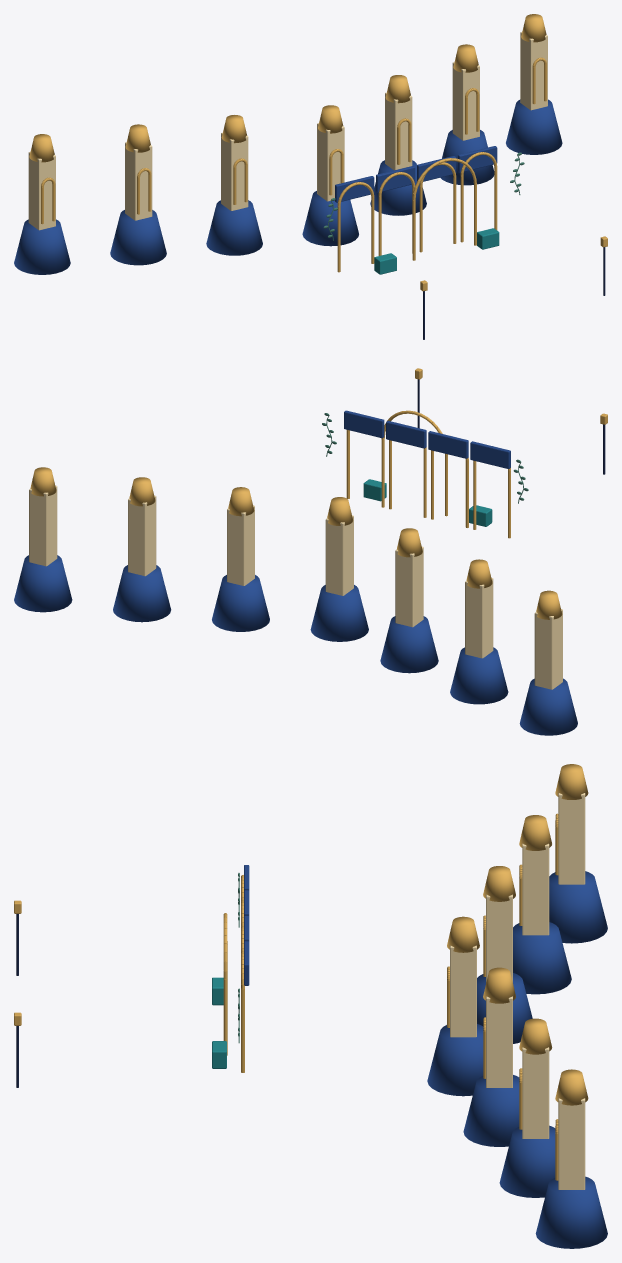
The model's file is post.glb.
3 renders of one model, top to bottom at view 1: azimuth 30°, elevation 25°; view 2: azimuth 150°, elevation 25°; view 3: azimuth 270°, elevation 25°, orthographic. The views are drawn at different scales.
Visible parts, largest first — view 1: Architecture_blue, Architecture_cream, Architecture_gold, Architecture_teal; view 2: Architecture_blue, Architecture_cream, Architecture_gold, Architecture_teal; view 3: Architecture_blue, Architecture_cream, Architecture_gold, Architecture_teal.
Boxes of the visible parts, box(x1,y1,x2,y2) form: Architecture_blue: box(14, 99, 562, 274); Architecture_cream: box(28, 32, 547, 230); Architecture_gold: box(29, 14, 607, 291); Architecture_teal: box(374, 228, 499, 274); Architecture_blue: box(14, 410, 577, 735); Architecture_cream: box(29, 485, 562, 689); Architecture_gold: box(30, 368, 607, 619); Architecture_teal: box(363, 479, 492, 526); Architecture_blue: box(244, 865, 607, 1248); Architecture_cream: box(450, 793, 585, 1189); Architecture_gold: box(14, 764, 588, 1180); Architecture_teal: box(212, 977, 226, 1068).
Size of the model in its own units: 26.4 by 6.46 by 19.73.
